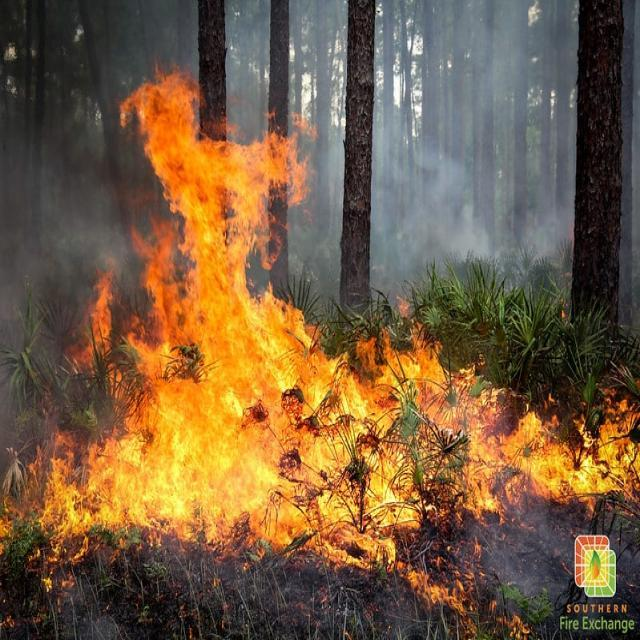Fire: (136, 83, 308, 570), (308, 339, 640, 521), (10, 426, 134, 546)
Smoke: (380, 28, 572, 256)
